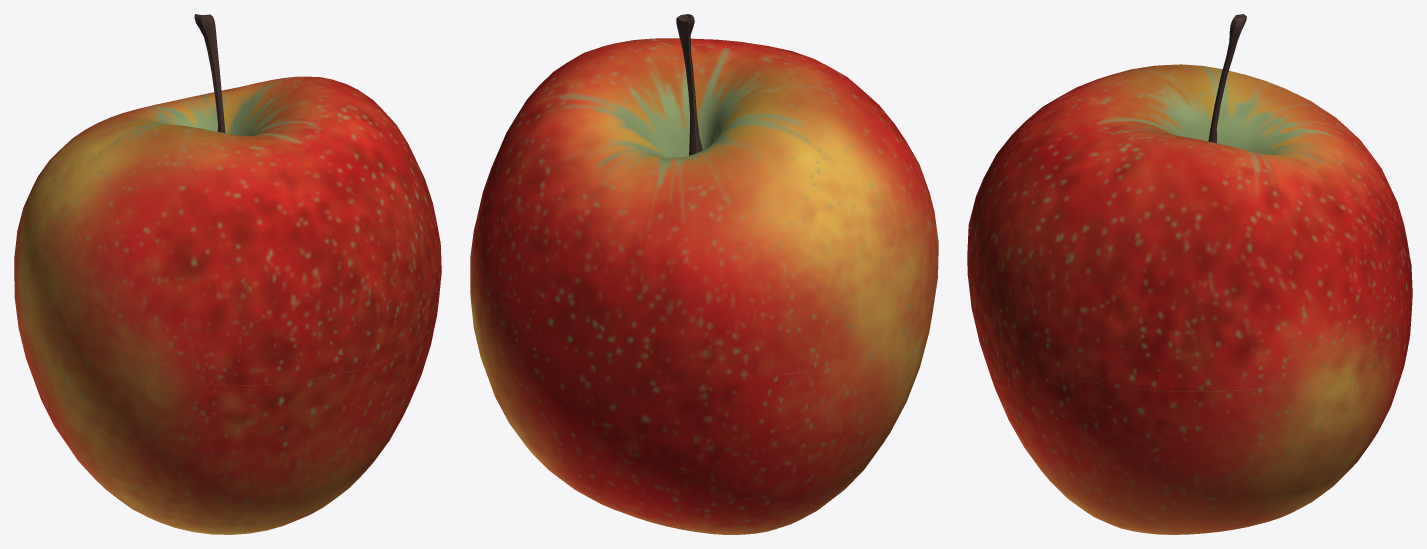
File: apple.glb
The picture shows the model from 3 angles, left to right: view 1: azimuth 30°, elevation 25°; view 2: azimuth 150°, elevation 25°; view 3: azimuth 270°, elevation 25°; orthographic projection. The views are drawn at different scales.
Bounding box in the file's own units: 58.99 × 73.1 × 59.18.
Materials: 1 (1 with a texture image).
